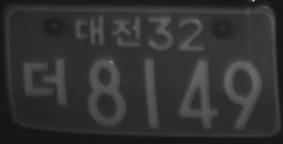1: (133, 56, 166, 130)
2: (175, 15, 205, 53)
3: (145, 15, 175, 52)
4: (177, 57, 218, 131)
8: (86, 57, 129, 128)
9: (221, 59, 264, 132)
대전_O: (73, 14, 144, 49)
더: (21, 55, 69, 106)
